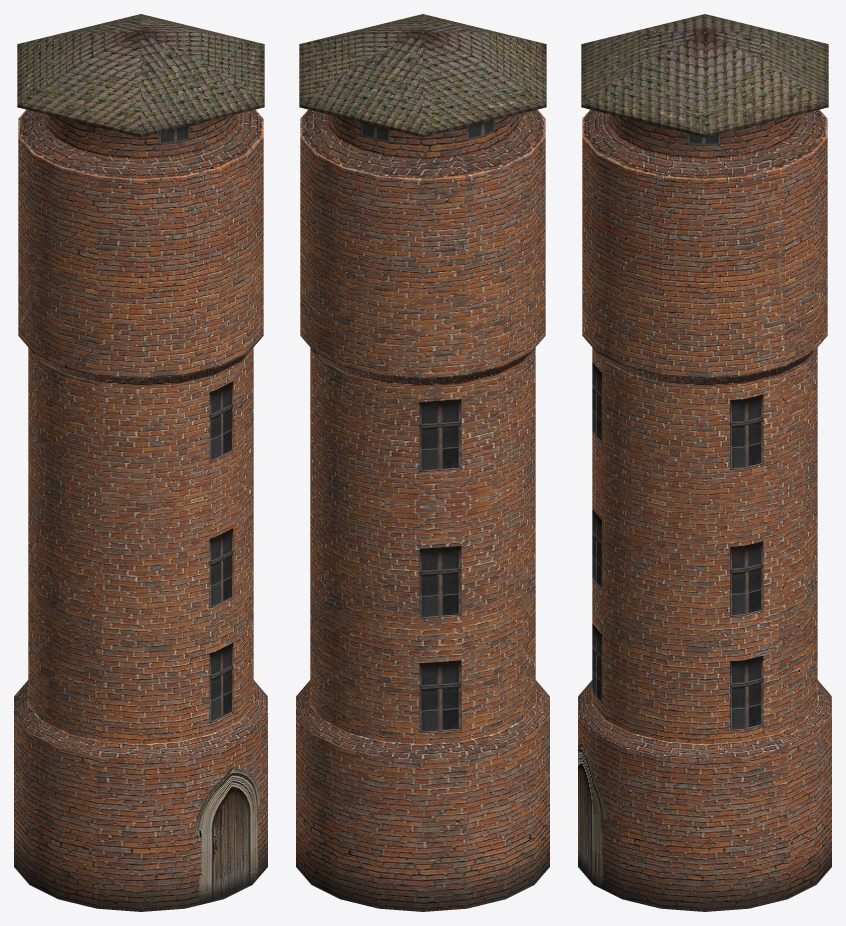
File: r254_vhodnoy_bashnia.FBX
3 renders of one model, left to right at view 1: azimuth 30°, elevation 25°; view 2: azimuth 150°, elevation 25°; view 3: azimuth 270°, elevation 25°, orthographic.
Visible parts, largest first — view 1: 1; view 2: 1; view 3: 1.
Boxes of the visible parts, x1=… form: 1: x1=14, y1=14, x2=267, y2=911; 1: x1=296, y1=14, x2=549, y2=911; 1: x1=578, y1=14, x2=831, y2=911.
Size of the model in its own units: 500 by 445 by 1595.
